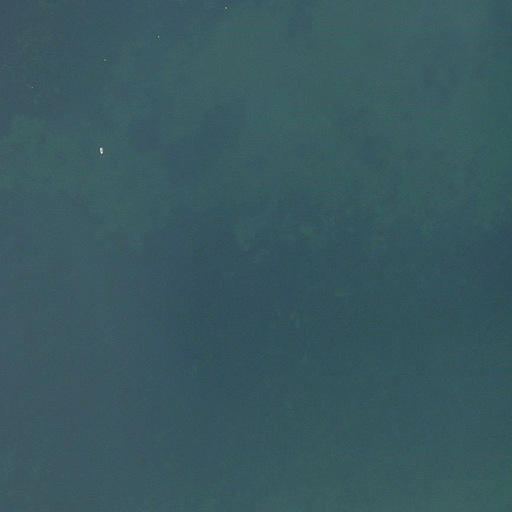ship: (98, 146, 105, 155)
